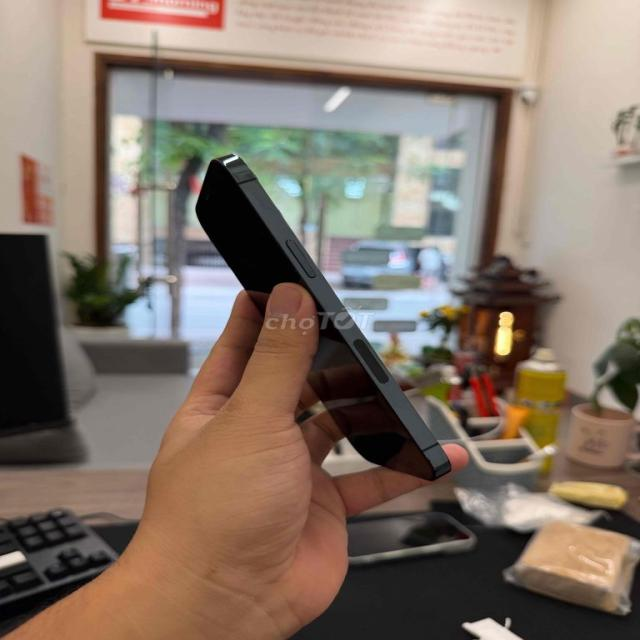gen_12_13: (193, 143, 455, 480)
